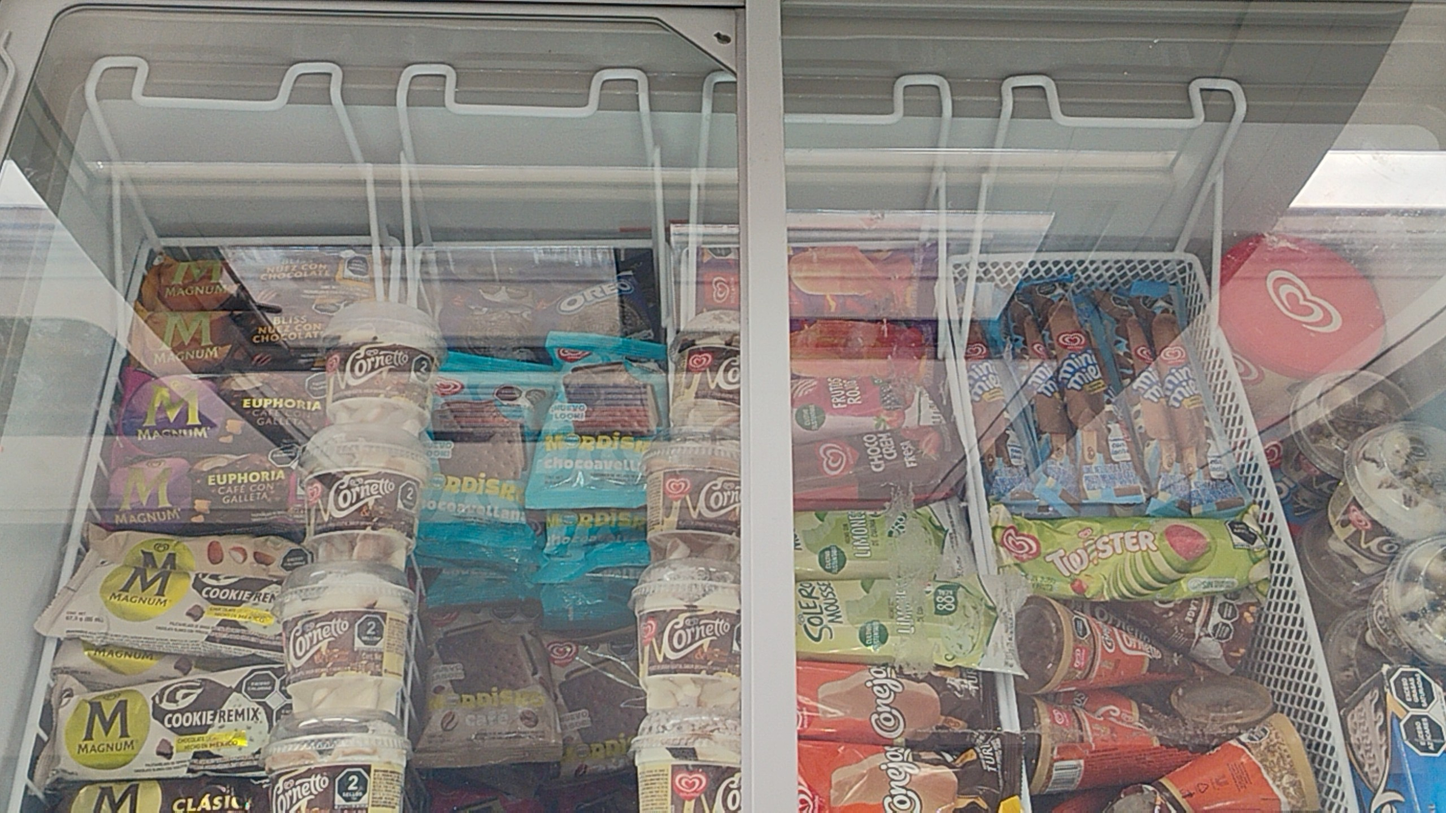rejilla: (1219, 332, 1356, 812), (60, 347, 124, 589), (9, 640, 54, 812), (961, 363, 992, 568), (945, 340, 967, 448), (968, 472, 986, 572), (127, 246, 148, 324), (435, 242, 652, 248), (161, 239, 370, 244), (979, 254, 1192, 258), (948, 269, 960, 339), (998, 675, 1009, 729), (1195, 260, 1209, 300), (1007, 676, 1017, 727), (391, 246, 399, 300), (1023, 781, 1030, 809), (952, 255, 968, 261)
